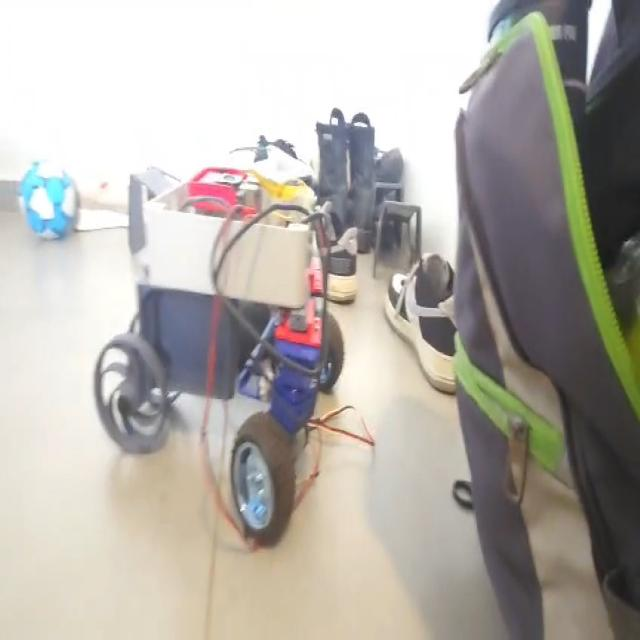Robot: (89, 128, 348, 556)
